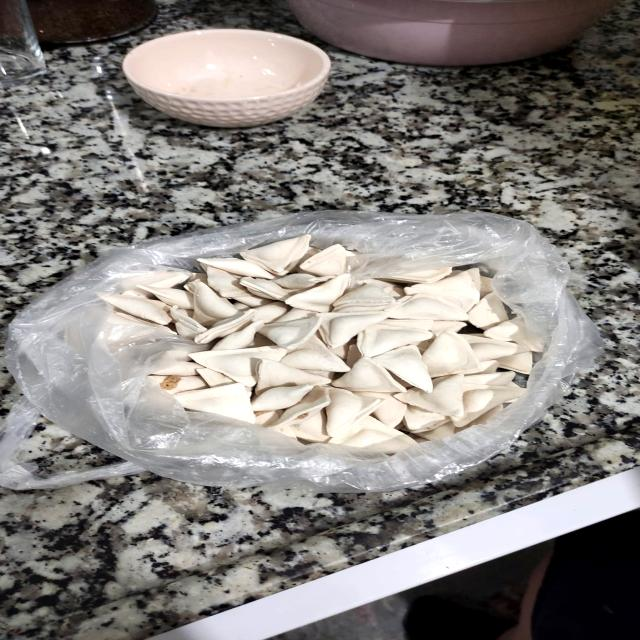turkish dumplings: (78, 245, 590, 451)
